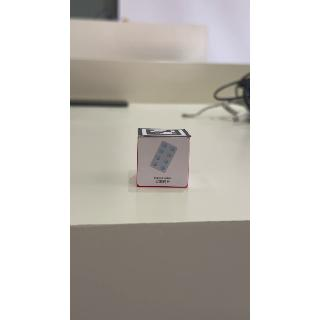Tablet: (139, 136, 188, 188)
